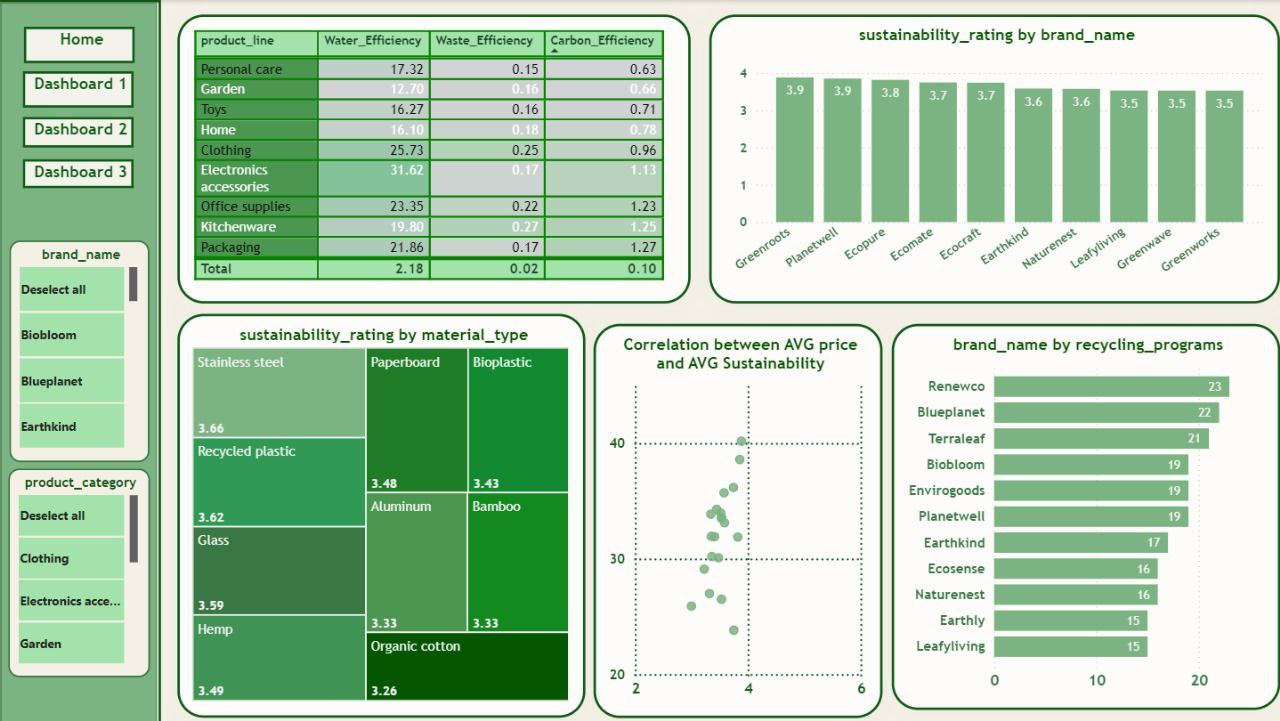

This screenshot's page, from the dashboard's own definition file:
{"tool":"powerbi","page":{"name":"Dashboard4","canvas":[1280,720],"ordinal":4},"visuals":[{"type":"clusteredBarChart","title":"brand_name by recycling_programs ","fields":{"Category":["Brand_dim.brand_name"],"Y":["CountNonNull(Sustainability_Fact.recycling_programs)"]},"box":[883,320,383.8,381.6],"z":0},{"type":"columnChart","title":" sustainability_rating by brand_name","fields":{"Y":["Avg(Sustainability_Fact.sustainability_rating)"],"Category":["Brand_dim.brand_name"]},"box":[702.6,14.3,564.1,285.9],"z":1000},{"type":"shape","box":[0,0,160.5,720.2],"z":2000},{"type":"treemap","title":" sustainability_rating by material_type","fields":{"Group":["Material_dim.material_type"],"Values":["Avg(Sustainability_Fact.sustainability_rating)"]},"box":[177,310.1,403.5,399.1],"z":3000},{"type":"actionButton","title":"Home","box":[25.3,26.4,110,36.3],"z":4000},{"type":"actionButton","title":"Dashboard 1","box":[24.2,70.4,110,36.3],"z":5000},{"type":"actionButton","title":"Dashboard 2","box":[24.2,115.5,110,30.8],"z":6000},{"type":"actionButton","title":"Dashboard 3","box":[24.2,157.2,110,28.6],"z":7000},{"type":"listSlicer","fields":{"Values":["Brand_dim.brand_name"]},"box":[11,237.5,138.5,218.8],"z":8000},{"type":"listSlicer","fields":{"Values":["Product_Category_dim.product_category"]},"box":[9.9,462.9,139.6,206.7],"z":9000},{"type":"tableEx","fields":{"Values":["Sustainability_Fact.product_line","Measure.Water_Efficiency","Measure.Waste_Efficiency","Measure.Carbon_Efficiency"]},"box":[177,14.3,506.9,285.9],"z":10000},{"type":"scatterChart","title":"Correlation between AVG price and AVG Sustainability ","fields":{"Category":["Brand_dim.brand_name"],"X":["Avg(Sustainability_Fact.sustainability_rating)"],"Y":["Avg(Sustainability_Fact.average_price)"]},"box":[588.3,320,285.9,389.3],"z":11000}]}

Visuals, with their boxes in screenshot pixels (x1, y1, x2, y2), scaled from the page's 1280x720 canvas onto the 1280x721 screenshot:
"brand_name by recycling_programs " clusteredBarChart: x1=883 y1=320 x2=1267 y2=703
" sustainability_rating by brand_name" columnChart: x1=703 y1=14 x2=1267 y2=301
shape: x1=0 y1=0 x2=160 y2=720
" sustainability_rating by material_type" treemap: x1=177 y1=311 x2=580 y2=710
"Home" actionButton: x1=25 y1=26 x2=135 y2=63
"Dashboard 1" actionButton: x1=24 y1=70 x2=134 y2=107
"Dashboard 2" actionButton: x1=24 y1=116 x2=134 y2=147
"Dashboard 3" actionButton: x1=24 y1=157 x2=134 y2=186
listSlicer - Brand_dim.brand_name: x1=11 y1=238 x2=150 y2=457
listSlicer - Product_Category_dim.product_category: x1=10 y1=464 x2=150 y2=671
tableEx - Sustainability_Fact.product_line x Measure.Water_Efficiency: x1=177 y1=14 x2=684 y2=301
"Correlation between AVG price and AVG Sustainability " scatterChart: x1=588 y1=320 x2=874 y2=710
